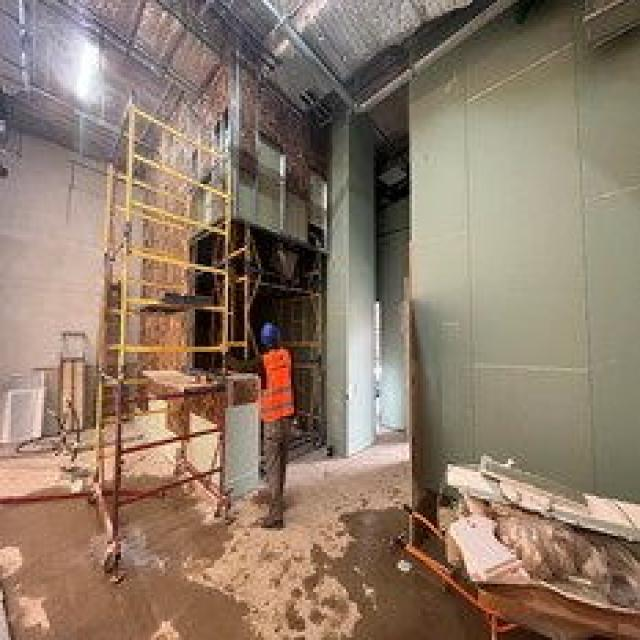Helmet: (261, 325, 282, 346)
Jacket: (258, 353, 294, 420)
